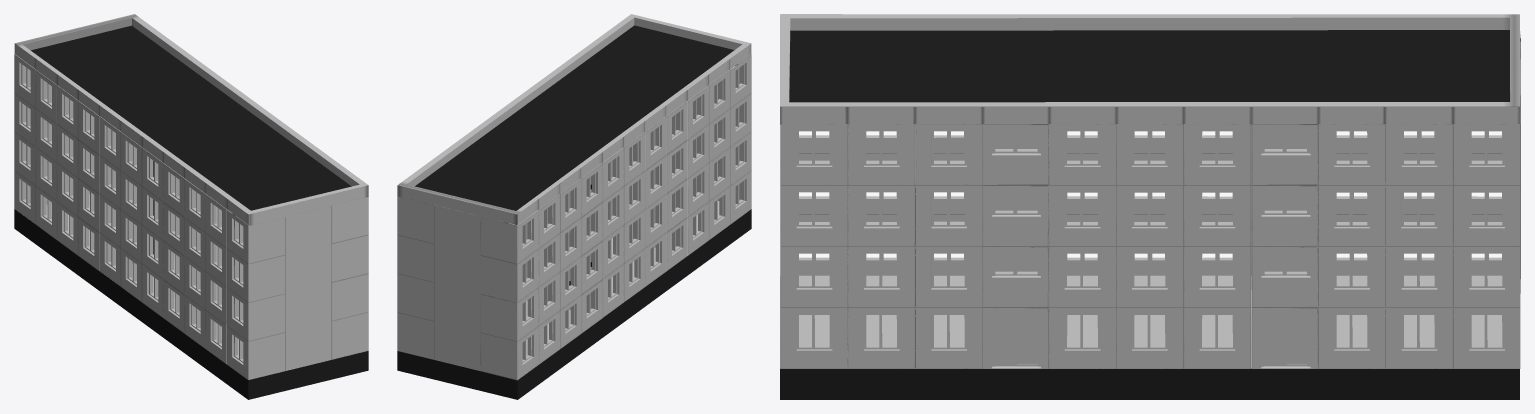
File: panelka.fbx
3 renders of one model, left to right at view 1: azimuth 30°, elevation 25°; view 2: azimuth 150°, elevation 25°; view 3: azimuth 270°, elevation 25°, orthographic. The views are drawn at different scales.
Visible parts, largest first — view 1: Cube.001, Cube.002, Cube; view 2: Cube.001, Cube.002, Cube; view 3: Cube.001, Cube.002, Cube.
Boxes of the visible parts, x1,y1,x2,y2 form: Cube.001: (14, 54, 368, 379); Cube.002: (14, 14, 368, 225); Cube: (14, 191, 368, 399); Cube.001: (397, 54, 751, 380); Cube.002: (397, 14, 751, 225); Cube: (397, 201, 751, 399); Cube.001: (780, 31, 1520, 368); Cube.002: (780, 14, 1519, 124); Cube: (780, 275, 1519, 399).
Bounding box in the file's own units: 652 × 957 × 2192.
1 material, 1 textured.
